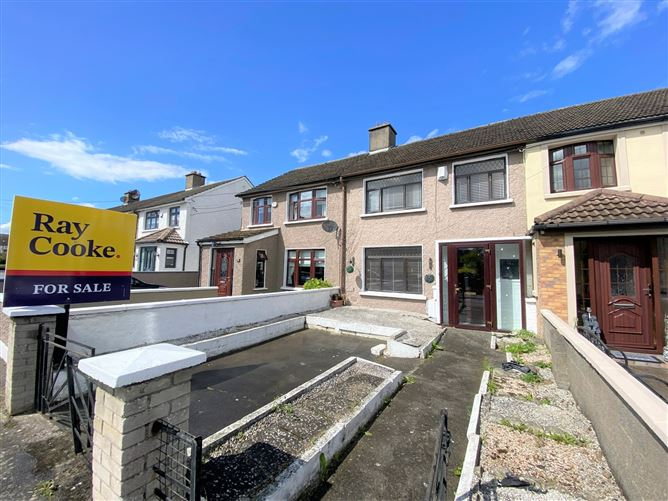property sign: (5, 178, 144, 332)
